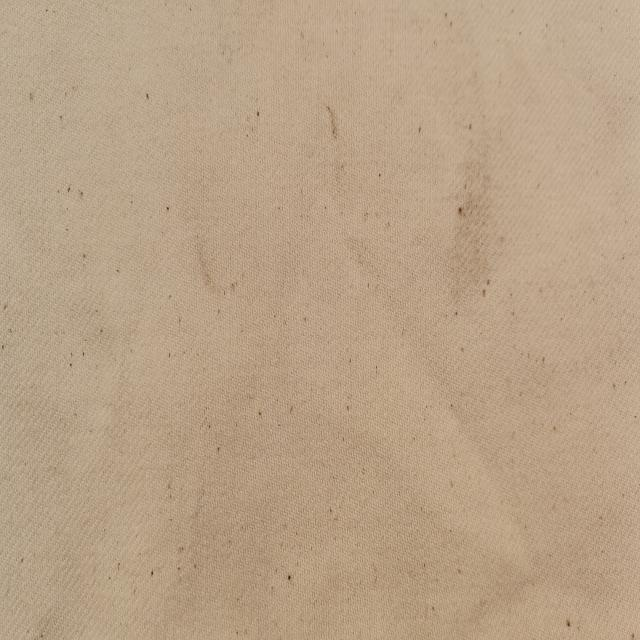taaaches: (323, 94, 343, 145)
